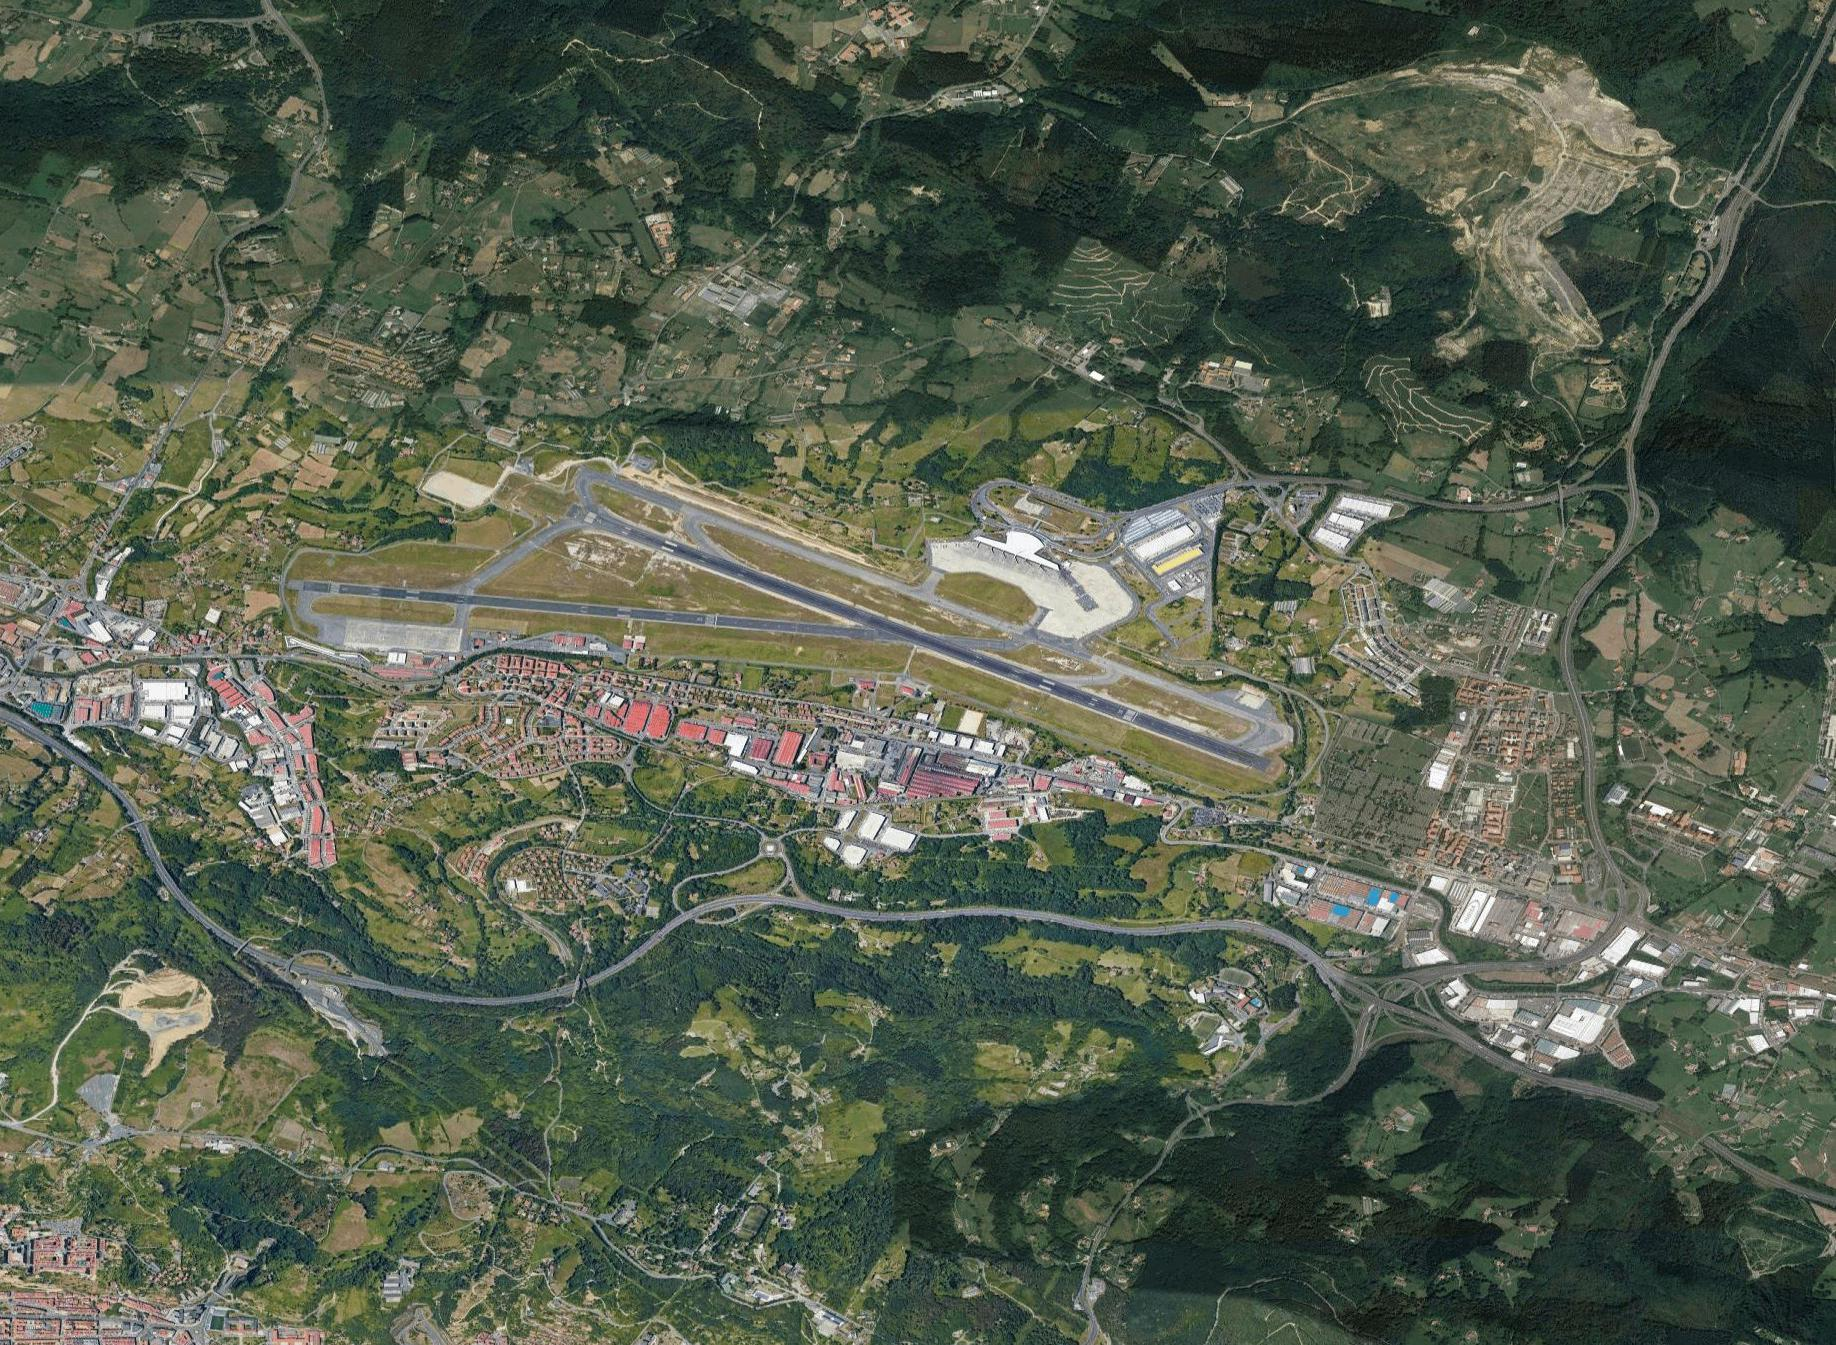airport: (272, 415, 1294, 822)
industrial: (1447, 975, 1625, 1064)
motorway: (1, 702, 190, 908), (194, 896, 478, 1032), (480, 890, 711, 1047), (1705, 14, 1836, 244), (1602, 239, 1733, 469), (1233, 913, 1418, 1054), (1552, 467, 1655, 707), (974, 873, 1233, 956), (711, 873, 969, 956), (1565, 698, 1654, 910), (1666, 1121, 1833, 1221), (1527, 1067, 1662, 1128), (1415, 1022, 1522, 1086)
